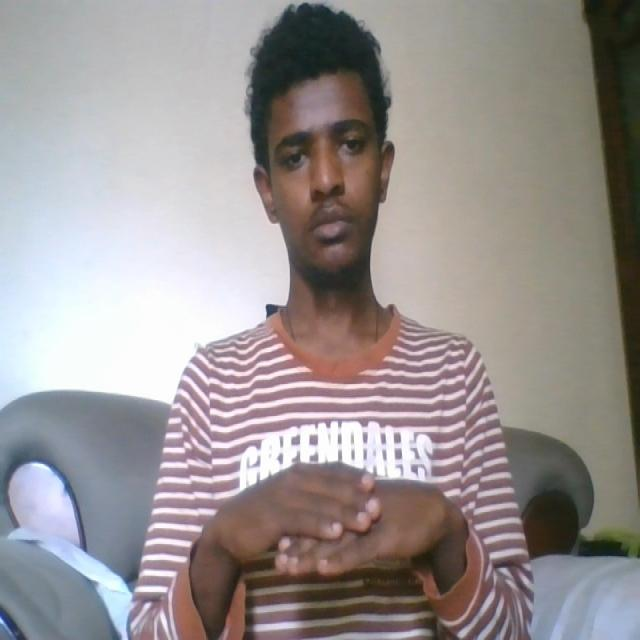lay: (210, 463, 454, 585)
